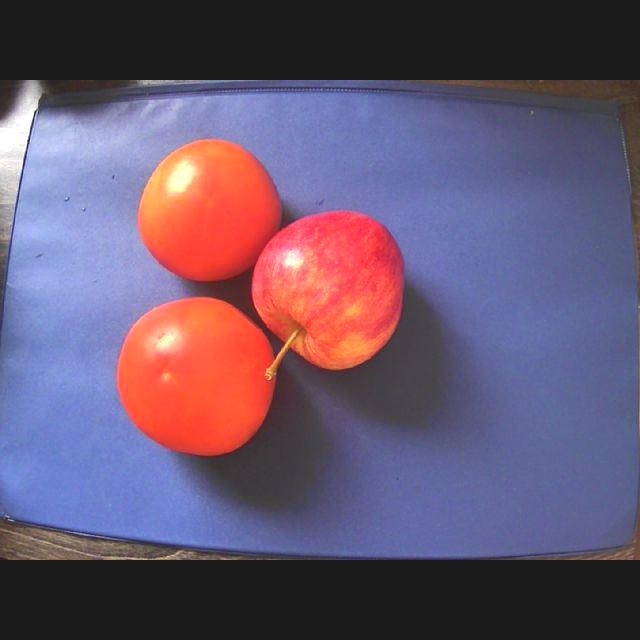manzana: (253, 211, 404, 369)
tomate: (118, 297, 275, 454), (139, 139, 282, 280)
